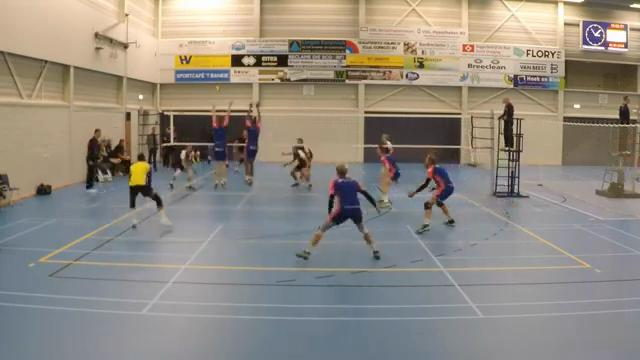Block: (205, 101, 238, 198), (238, 97, 263, 190)
Player: (296, 164, 380, 259), (408, 155, 454, 233), (129, 153, 170, 225), (282, 138, 312, 188), (377, 144, 400, 207), (170, 145, 194, 189), (233, 130, 246, 172), (381, 133, 392, 154), (381, 134, 392, 154)
ball: (215, 84, 221, 93)
